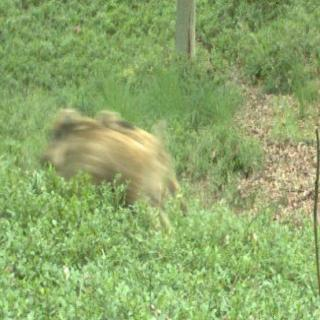Pig: (31, 89, 185, 232), (102, 105, 180, 172)
